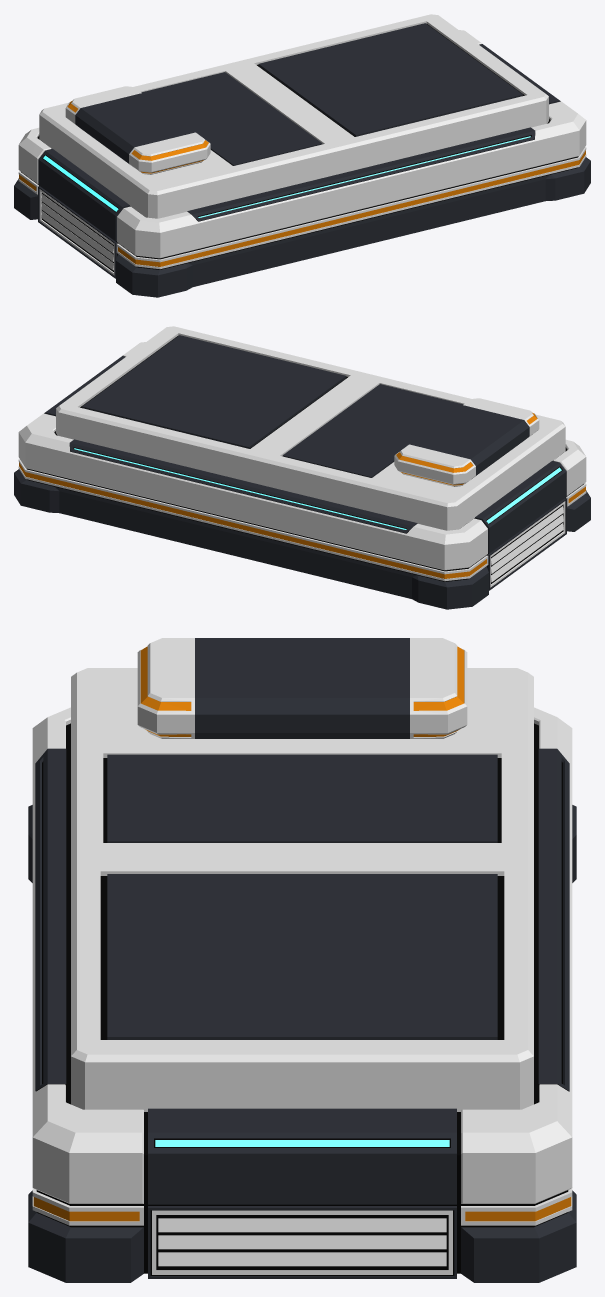
Rendered from bunk.glb.
3 renders of one model, top to bottom at view 1: azimuth 30°, elevation 25°; view 2: azimuth 150°, elevation 25°; view 3: azimuth 270°, elevation 25°, orthographic. The views are drawn at different scales.
Visible parts, largest first — view 1: SM_Bed_Single; view 2: SM_Bed_Single; view 3: SM_Bed_Single.
Part boxes in pixels (left/top/right/bottom): SM_Bed_Single: left=14, top=14, right=590, bottom=297; SM_Bed_Single: left=14, top=326, right=590, bottom=609; SM_Bed_Single: left=28, top=638, right=576, bottom=1282.
Size of the model in its own units: 2.29 by 0.5496 by 1.18.
